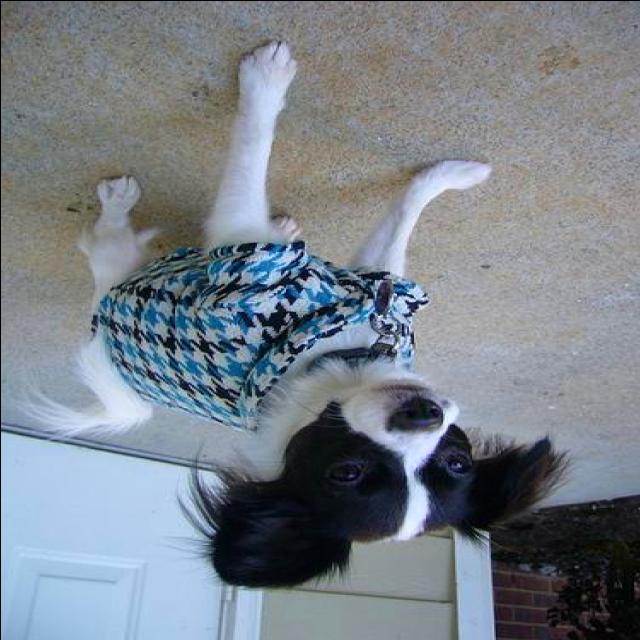papillon: (18, 39, 562, 588)
